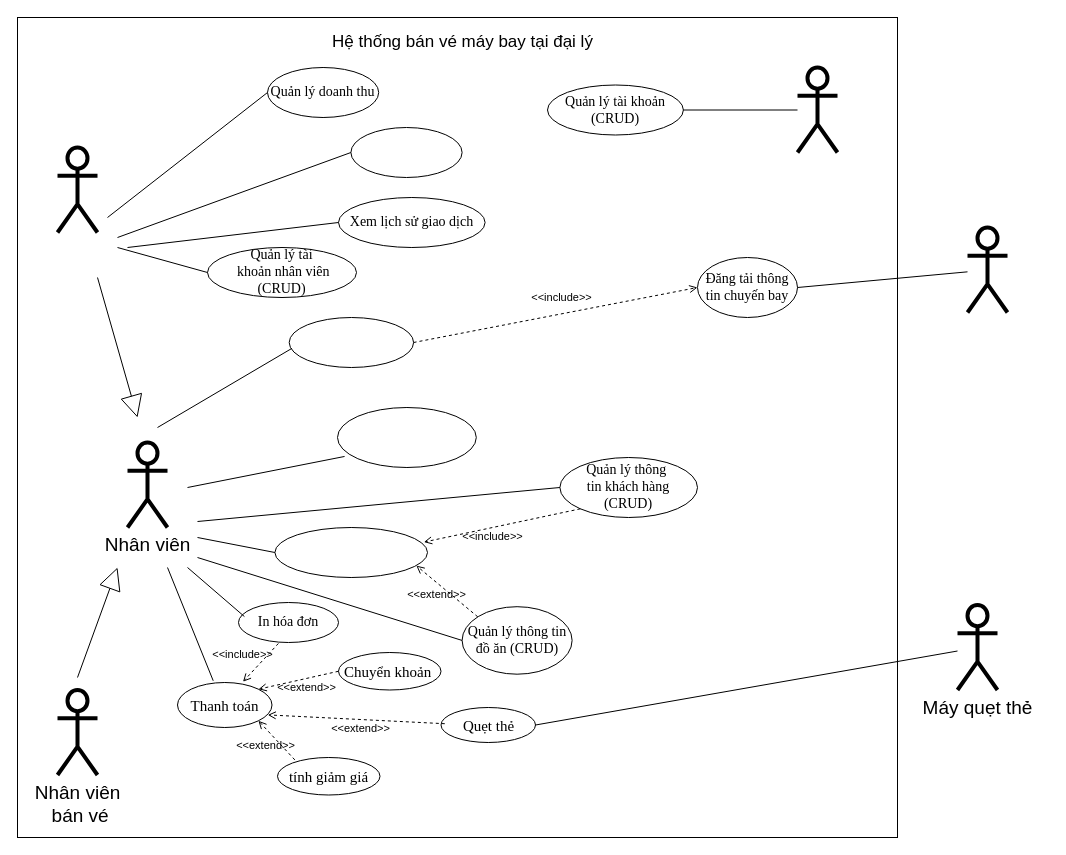
The diagram is 1066 pixels wide and 855 high, and some of its shapes have lost their labels. The shapes that lost their labels are listed below. From the top down, each one's centre as x and y in pixels, then its label:
point (817, 109): Hệ thống
point (406, 152): Quản lý nhân viên (CRUD)
point (77, 189): Quản lý
point (987, 269): Hãng máy bay
point (351, 342): Tìm thông tin chuyến bay
point (406, 437): Quản lý thông tin hóa đơn (CRUD)
point (351, 552): Quản lý thông tin vé (CRUD)
